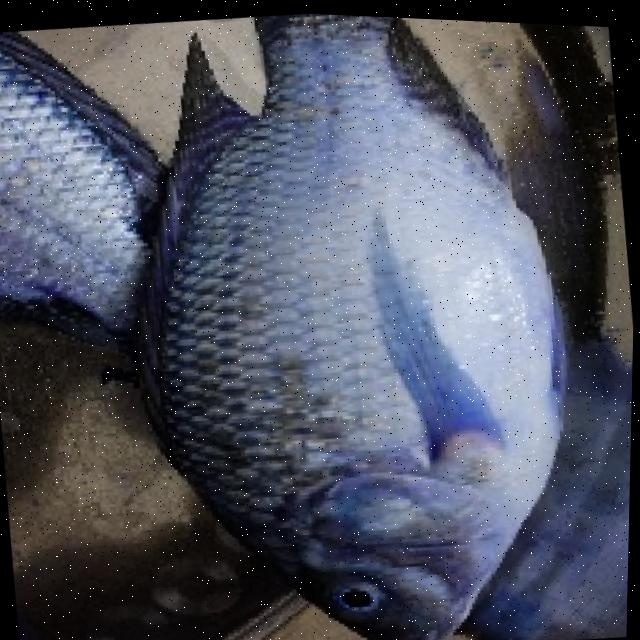Fresh: (156, 102, 589, 640)
